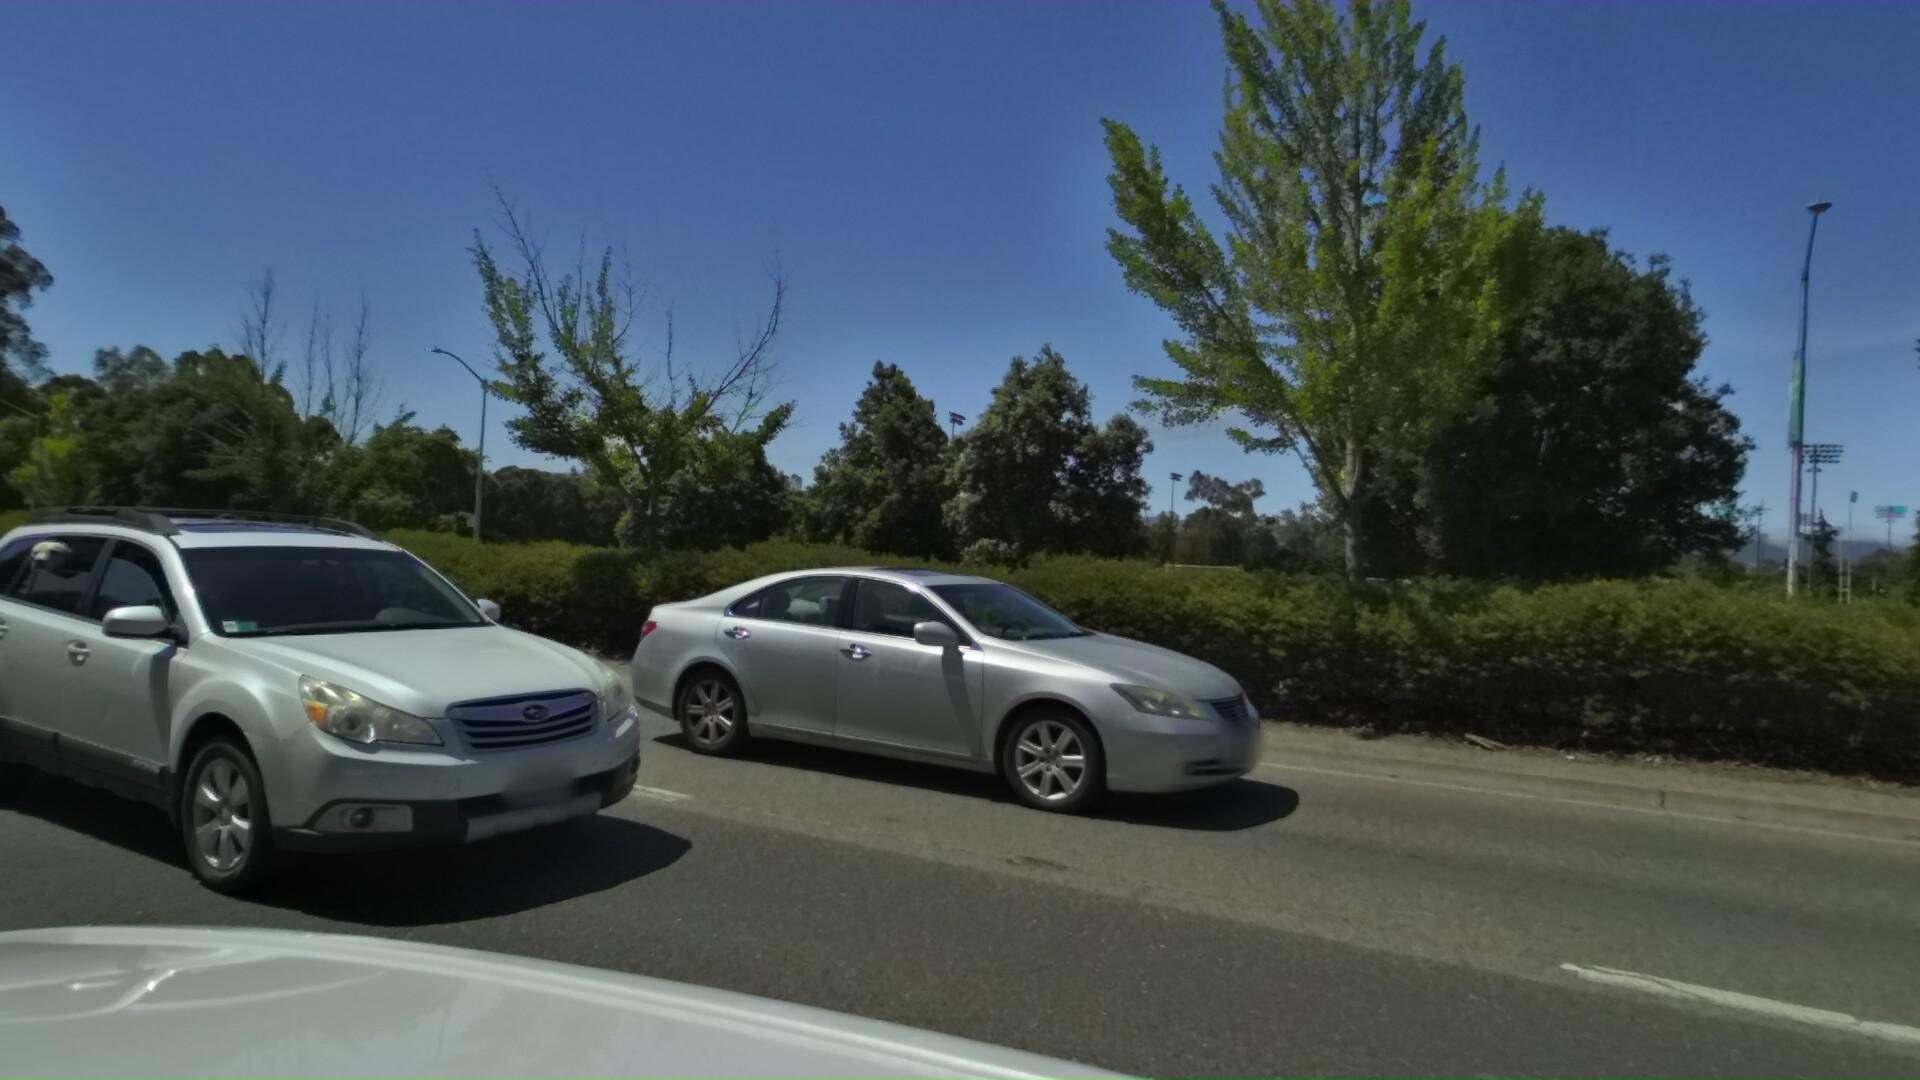car: (0, 498, 698, 967), (591, 545, 1335, 858)
